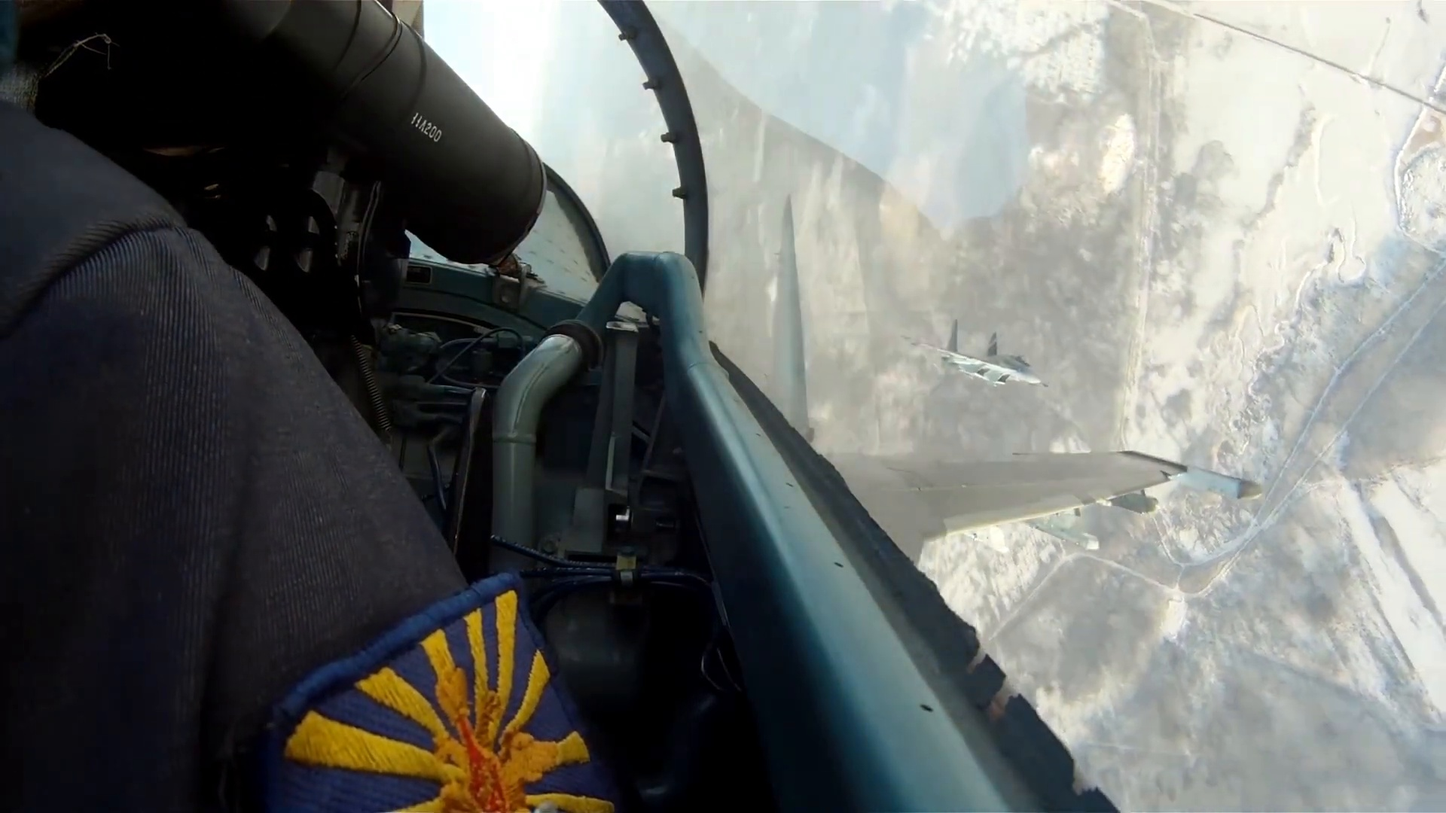Su35: (898, 318, 1044, 388)
